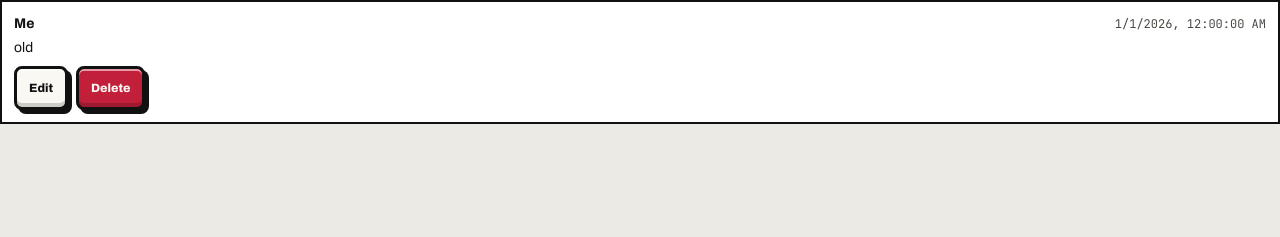
Test: CommentList › edits a comment in place and calls onEdit with the trimmed text
The width and height of the screenshot is (1280, 237).
Later steps or results of the test are not shown.
Click the button with aria-label "Edit comment: old" at (41, 88), box top-left (14, 66), bottom-right (68, 110)
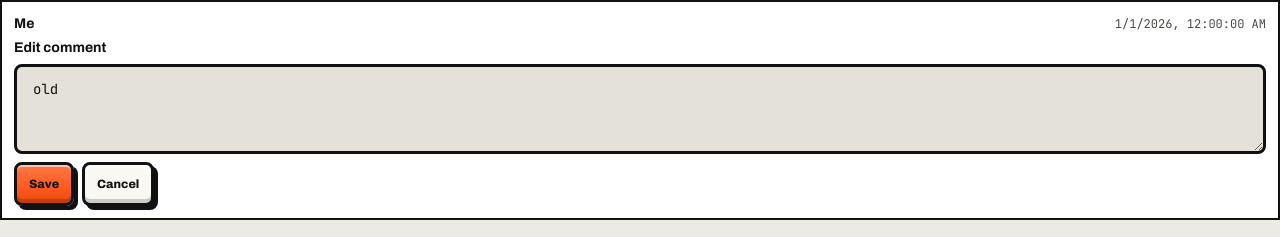
Expected: the text box labelled "Edit comment" holds "old", top-left (14, 64), bottom-right (1266, 154)
